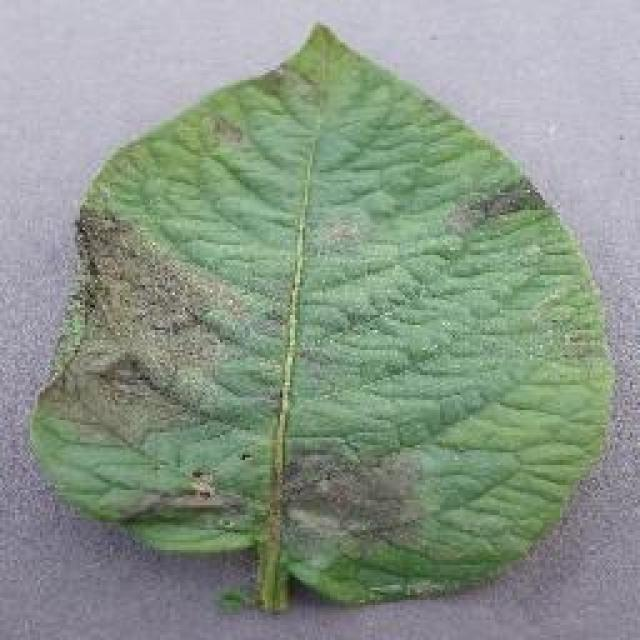late_blight: (22, 18, 620, 612)
